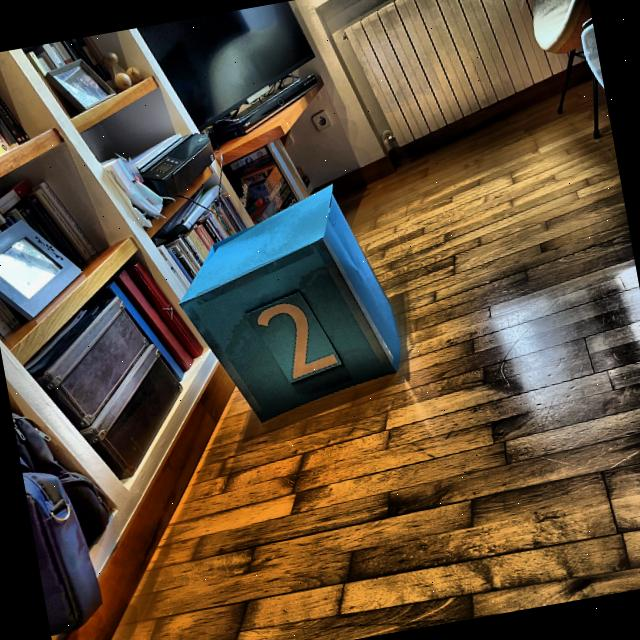blue box: (158, 174, 412, 438)
two: (248, 288, 344, 388)
